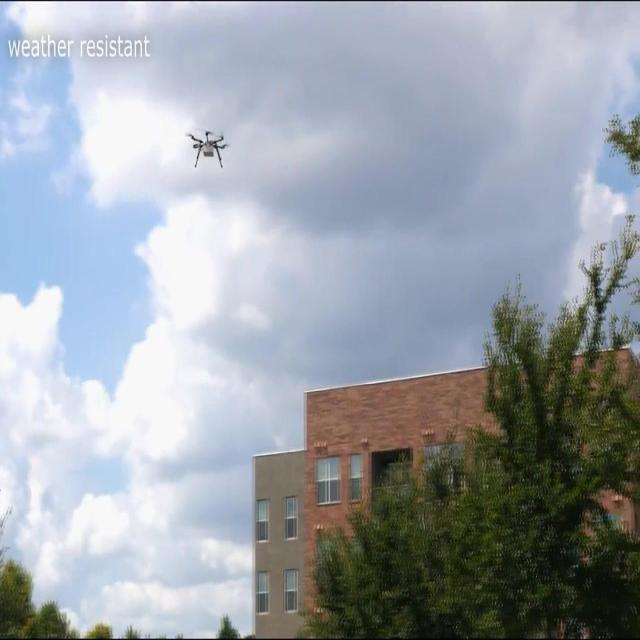drone: (183, 126, 231, 174)
